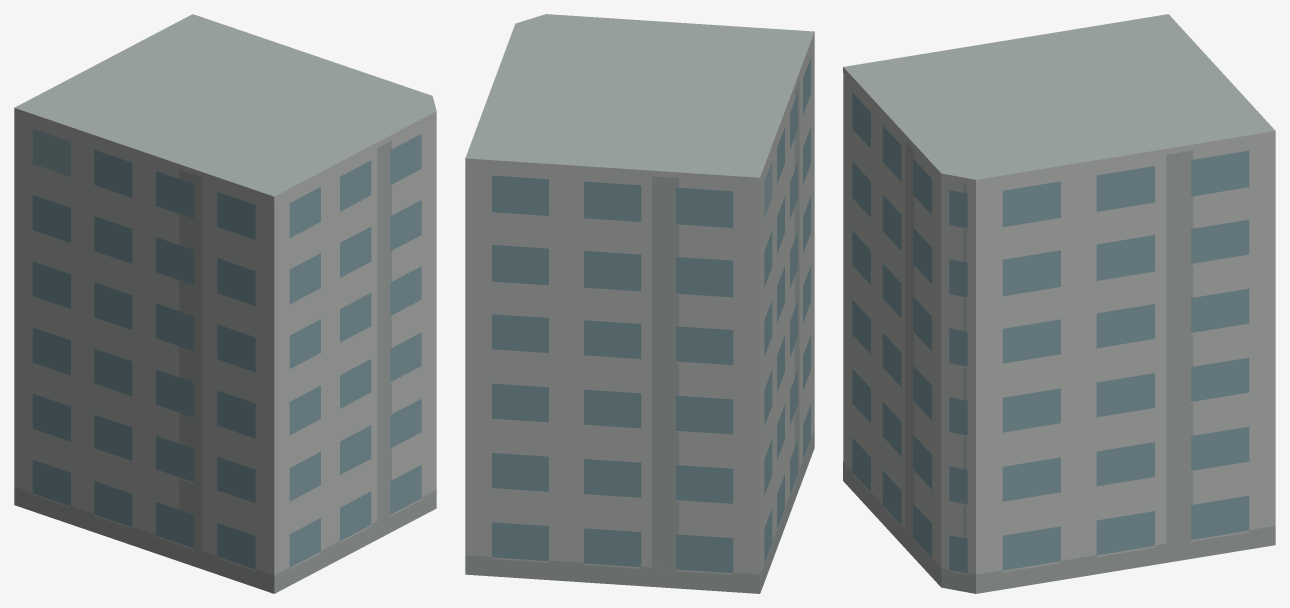
The model's file is survey-upis-32929228.glb.
3 renders of one model, left to right at view 1: azimuth 30°, elevation 25°; view 2: azimuth 150°, elevation 25°; view 3: azimuth 270°, elevation 25°, orthographic. The views are drawn at different scales.
Parts seen in each view (by area): view 1: survey-upis-32929228.tmp; view 2: survey-upis-32929228.tmp; view 3: survey-upis-32929228.tmp.
Part boxes in pixels (bbox=[...]): survey-upis-32929228.tmp: bbox=[14, 14, 436, 593]; survey-upis-32929228.tmp: bbox=[465, 14, 814, 593]; survey-upis-32929228.tmp: bbox=[843, 14, 1275, 593].
Size of the model in its own units: 14.69 by 17.1 by 16.2.
